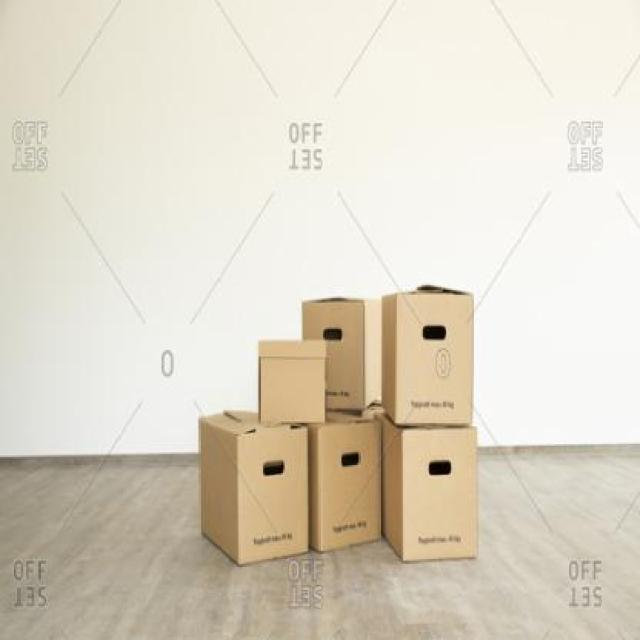box: (198, 414, 308, 566), (383, 422, 485, 561), (390, 273, 478, 425), (298, 292, 382, 419), (313, 410, 385, 554), (254, 327, 328, 433)
